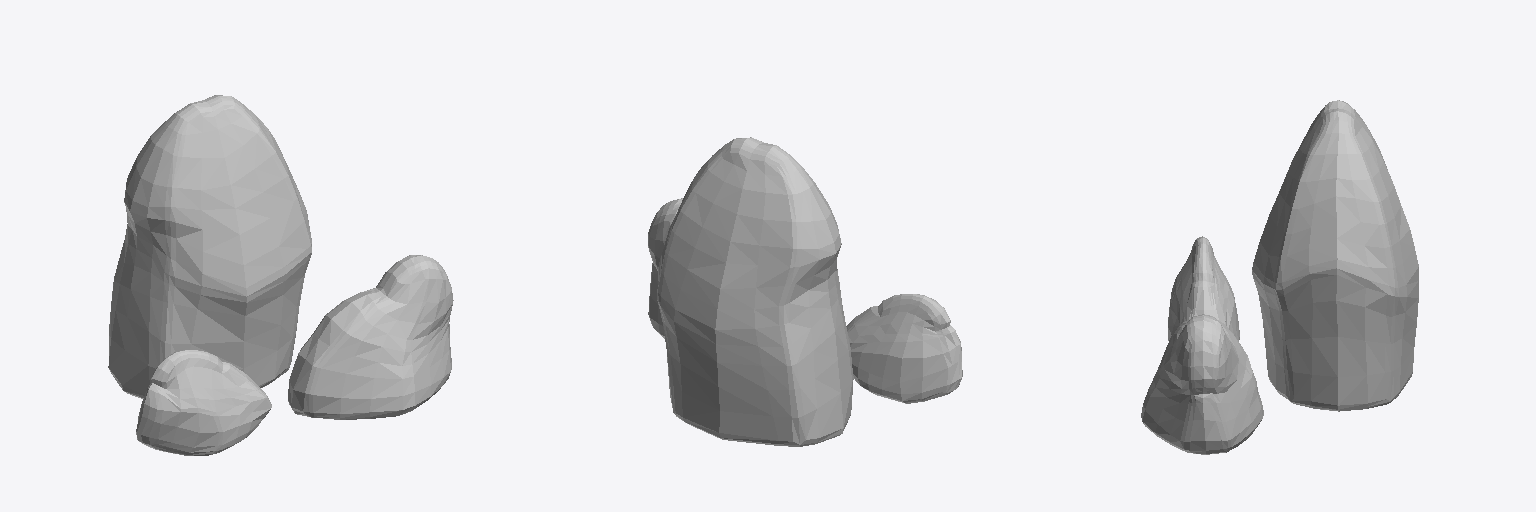
File: rock.obj
3 views of the same model, side by side, from view 1: azimuth 30°, elevation 25°; view 2: azimuth 150°, elevation 25°; view 3: azimuth 270°, elevation 25° (orthographic).
Parts seen in each view (by area): view 1: Niwaishi.obj; view 2: Niwaishi.obj; view 3: Niwaishi.obj.
Boxes of the visible parts, box(x1,y1,x2,y2) form: Niwaishi.obj: box(108, 95, 453, 455); Niwaishi.obj: box(648, 137, 962, 446); Niwaishi.obj: box(1141, 100, 1418, 454).
Bounding box in the file's own units: 1.55 × 1.33 × 1.19.